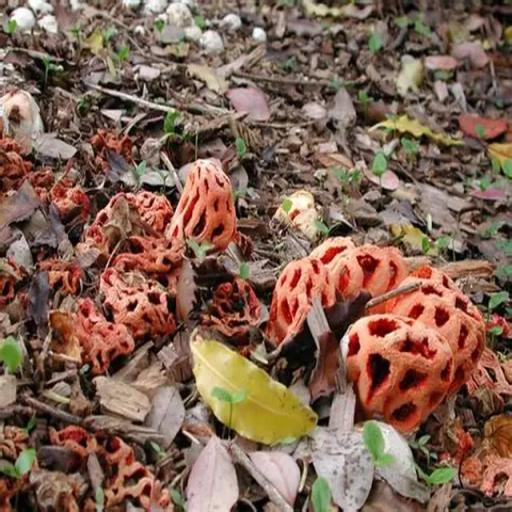Red Cage Fungus: (317, 293, 470, 442), (379, 255, 509, 397), (308, 211, 414, 317), (83, 251, 191, 354), (240, 246, 347, 349), (165, 156, 246, 251), (59, 287, 140, 377), (111, 222, 194, 295), (198, 270, 273, 347), (124, 176, 181, 237), (37, 257, 83, 296)
